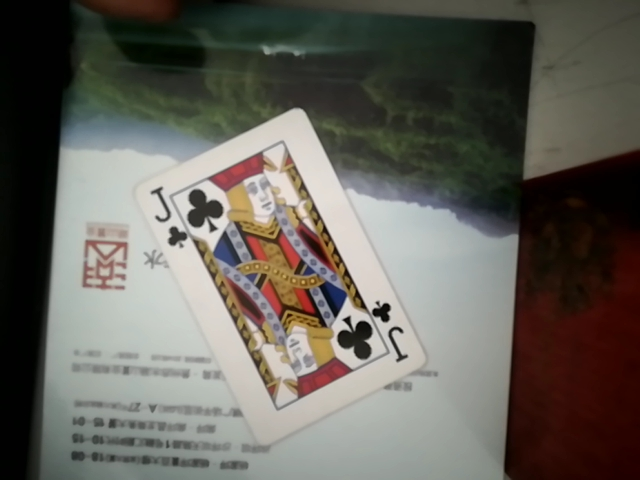mh j: (121, 93, 432, 441)
